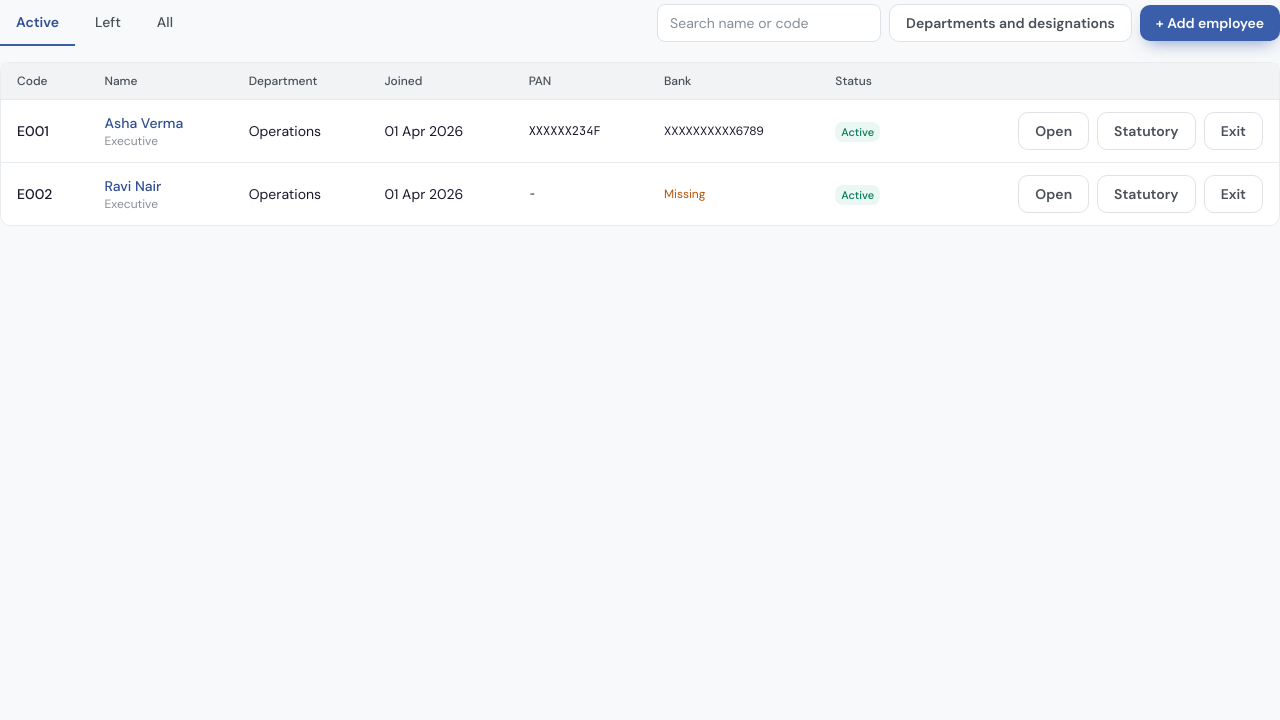
Test: EmployeesTab › an excluded employee hides the other PF choices
Click the button "Statutory" in the row of "E001" at (1146, 131), box left=1097, top=112, right=1196, bottom=150
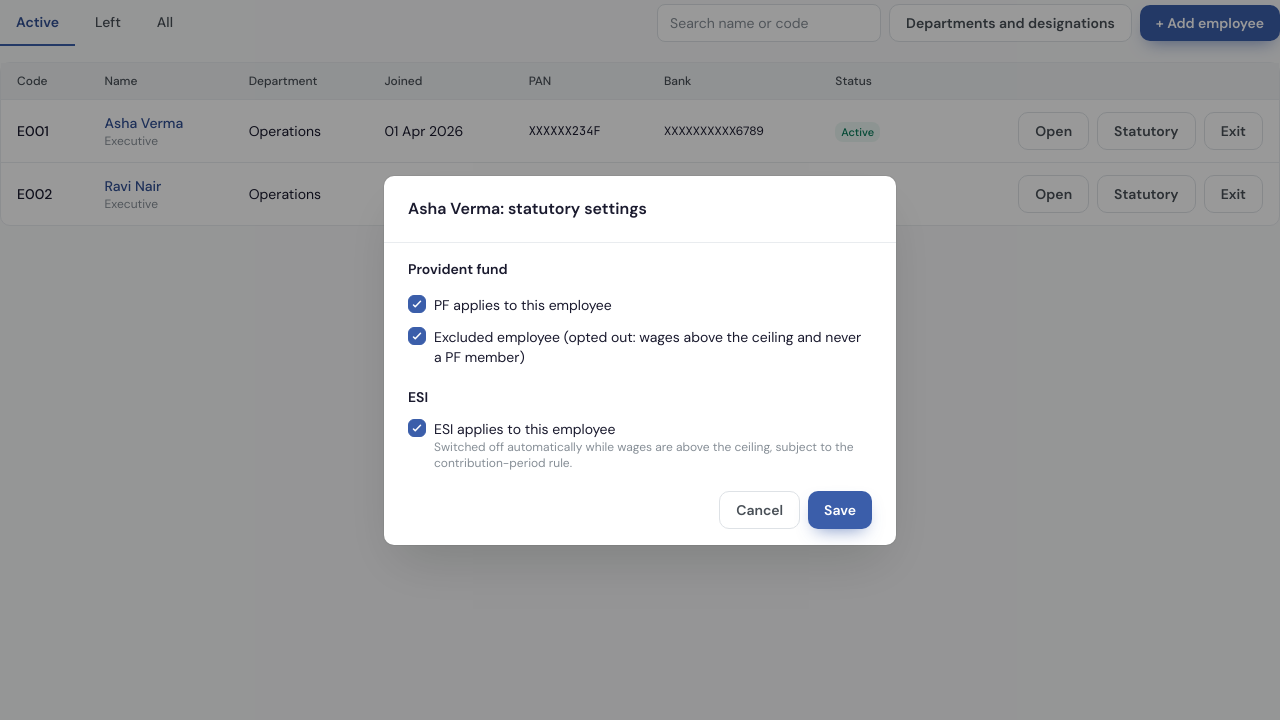
Expected: the checkbox labelled "Excluded employee" is checked, left=408, top=326, right=426, bottom=344
